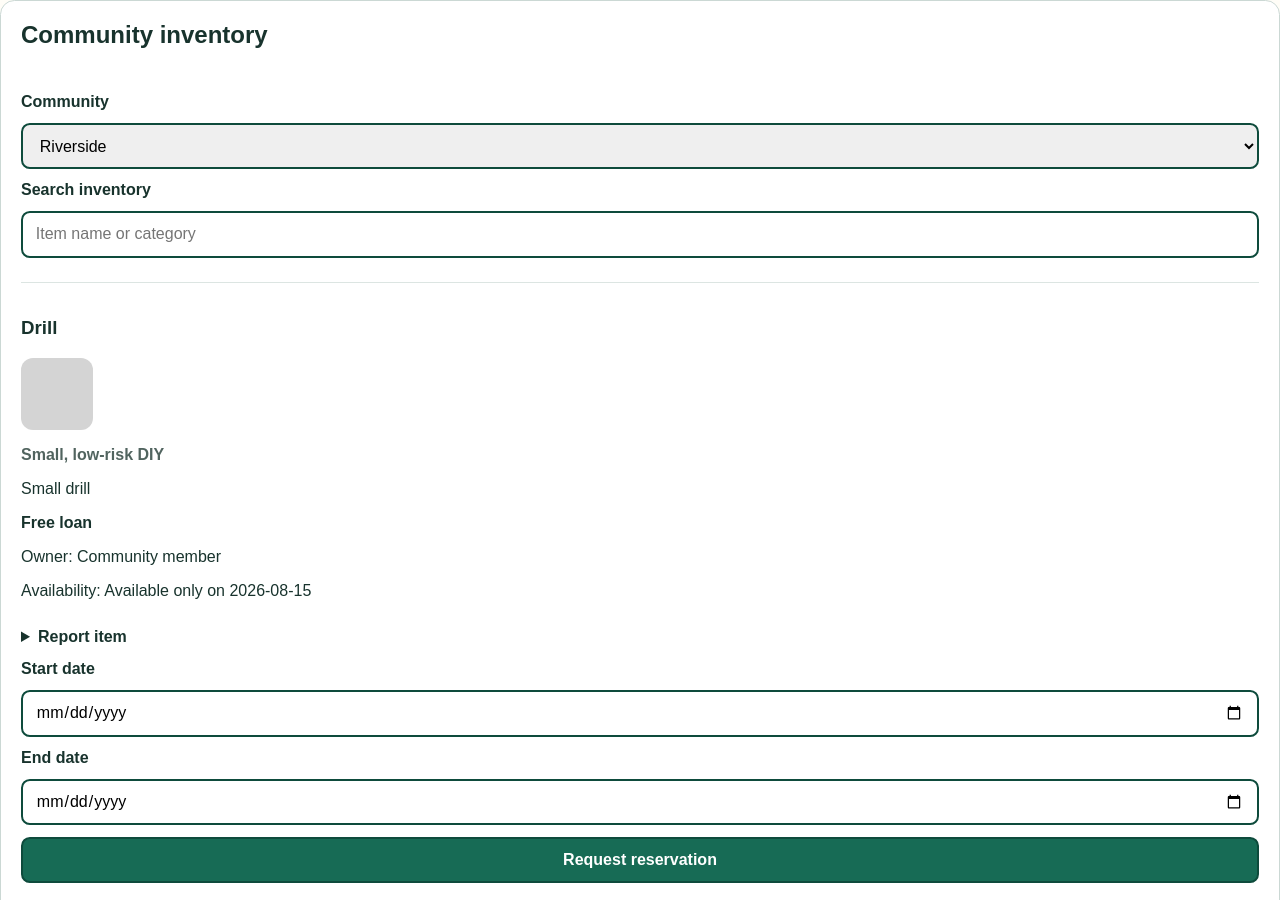
Test: ItemSection › shows an understandable unavailable error
Type "2026-08-16" into the date field labelled "Start date" at point(640, 713), box [21,690,1259,736]
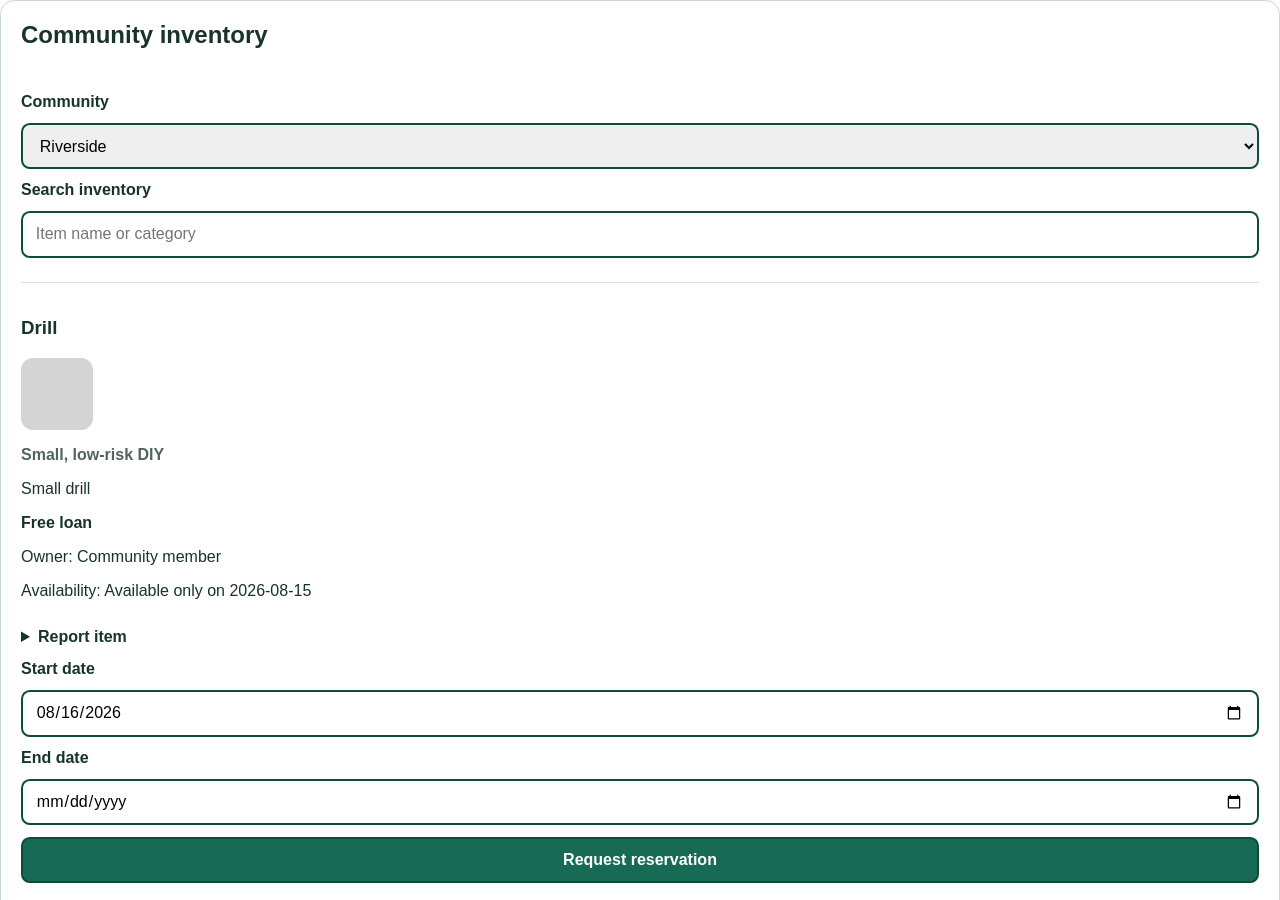
Type "2026-08-16" into the date field labelled "End date" at point(640, 802), box [21,778,1259,825]
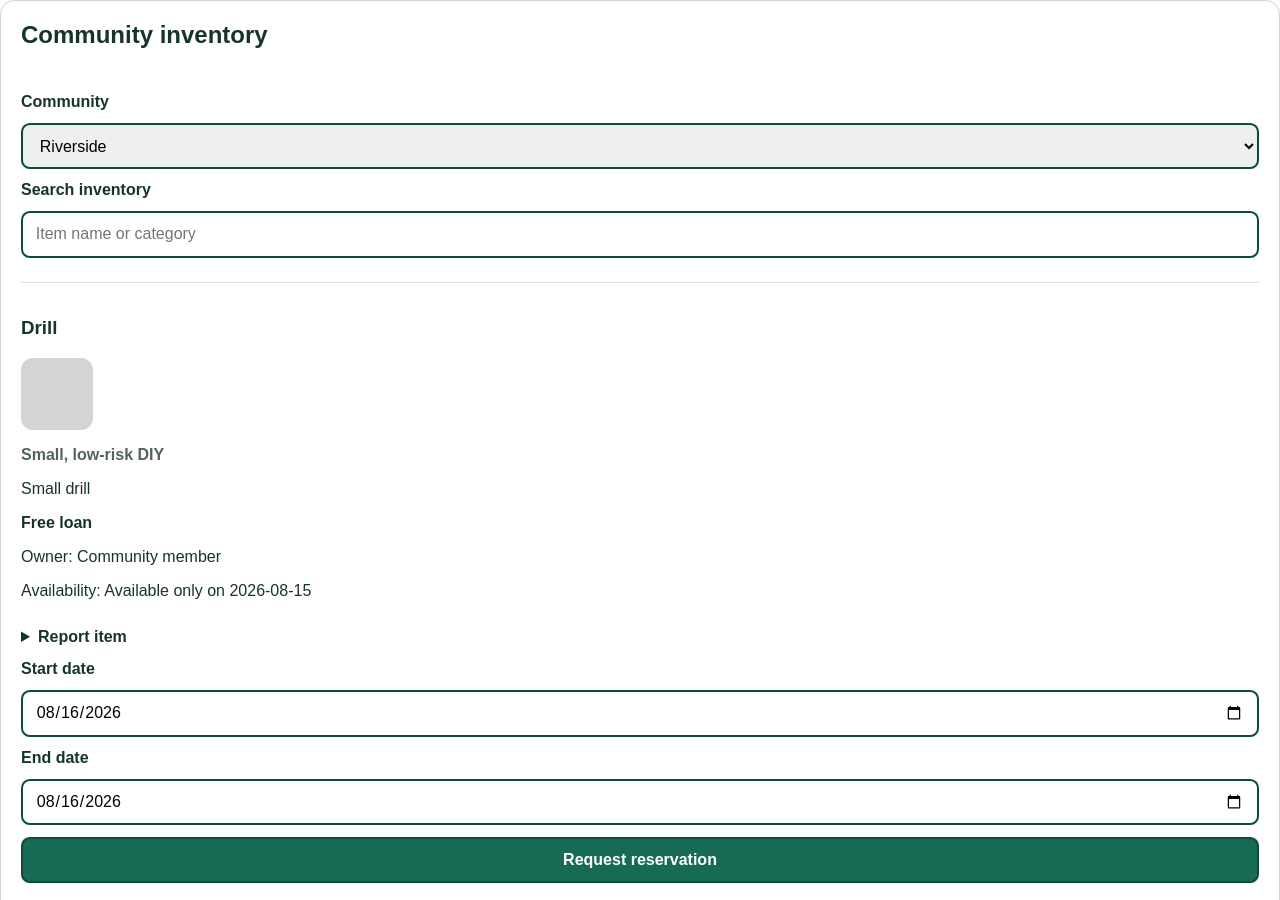
Click the button "Request reservation" at point(640, 860), box [21,837,1259,883]
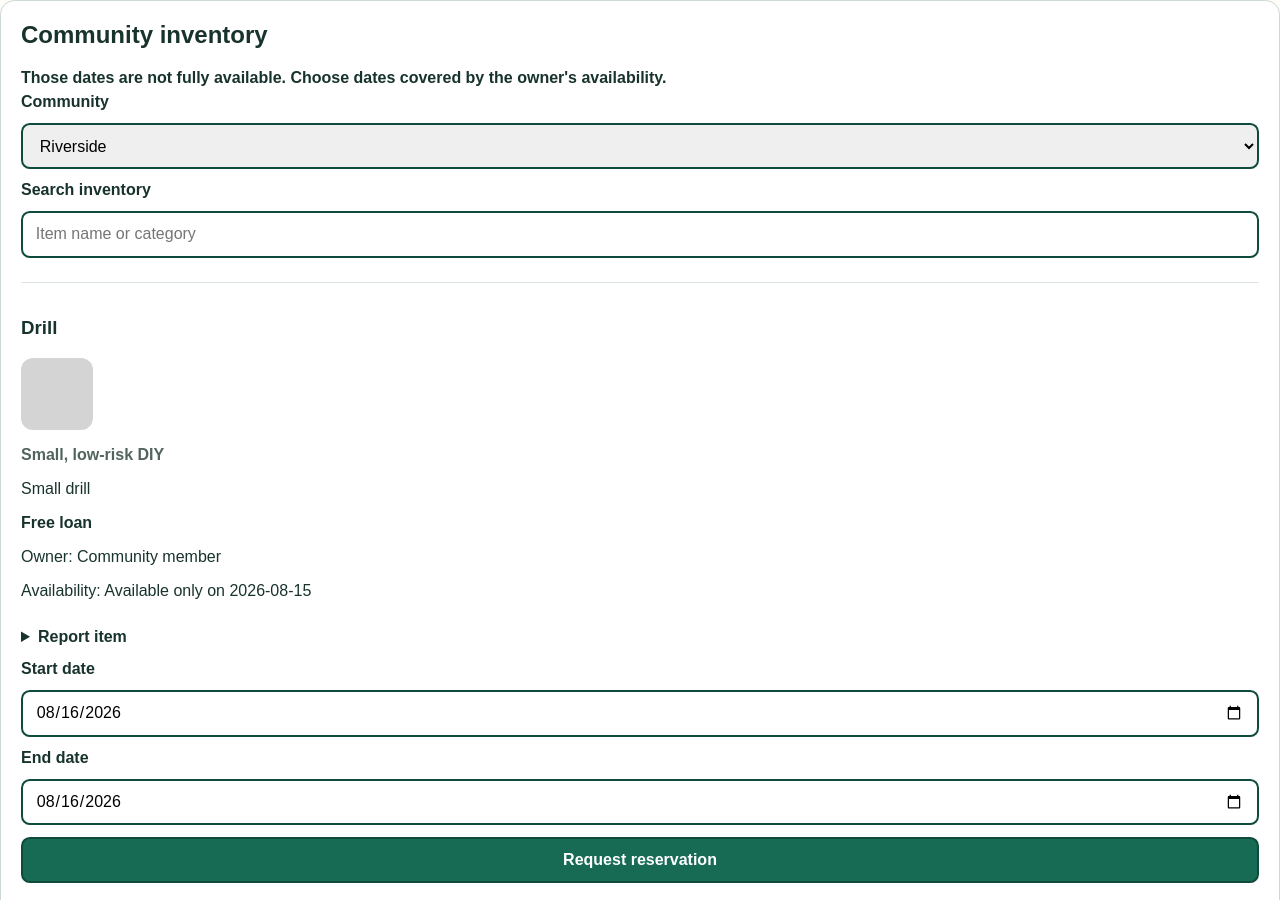
Now the text "Those dates are not fully available" is shown, box [21,69,666,86]
